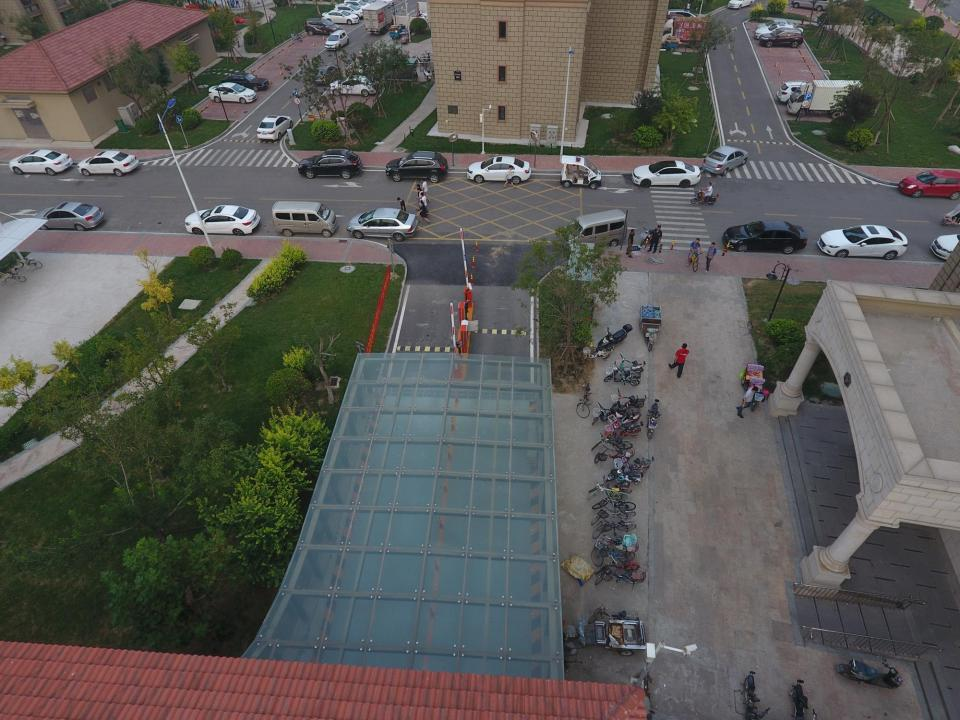car: (817, 224, 906, 259), (724, 219, 810, 255), (346, 206, 418, 243), (183, 204, 263, 234), (465, 156, 531, 186), (630, 160, 700, 188), (295, 150, 360, 180), (383, 152, 447, 182), (34, 202, 104, 228), (8, 148, 72, 176), (898, 170, 960, 197), (78, 150, 139, 177), (700, 145, 752, 175), (560, 156, 602, 189), (331, 74, 385, 96), (208, 84, 258, 102), (258, 114, 292, 140), (759, 26, 801, 47), (756, 18, 798, 38), (778, 80, 814, 100), (225, 72, 268, 88), (309, 64, 342, 84), (322, 9, 359, 24), (325, 30, 349, 50), (333, 2, 368, 12)
truck: (788, 81, 867, 117), (361, 2, 395, 34)
van: (560, 209, 627, 247), (304, 16, 342, 34)
